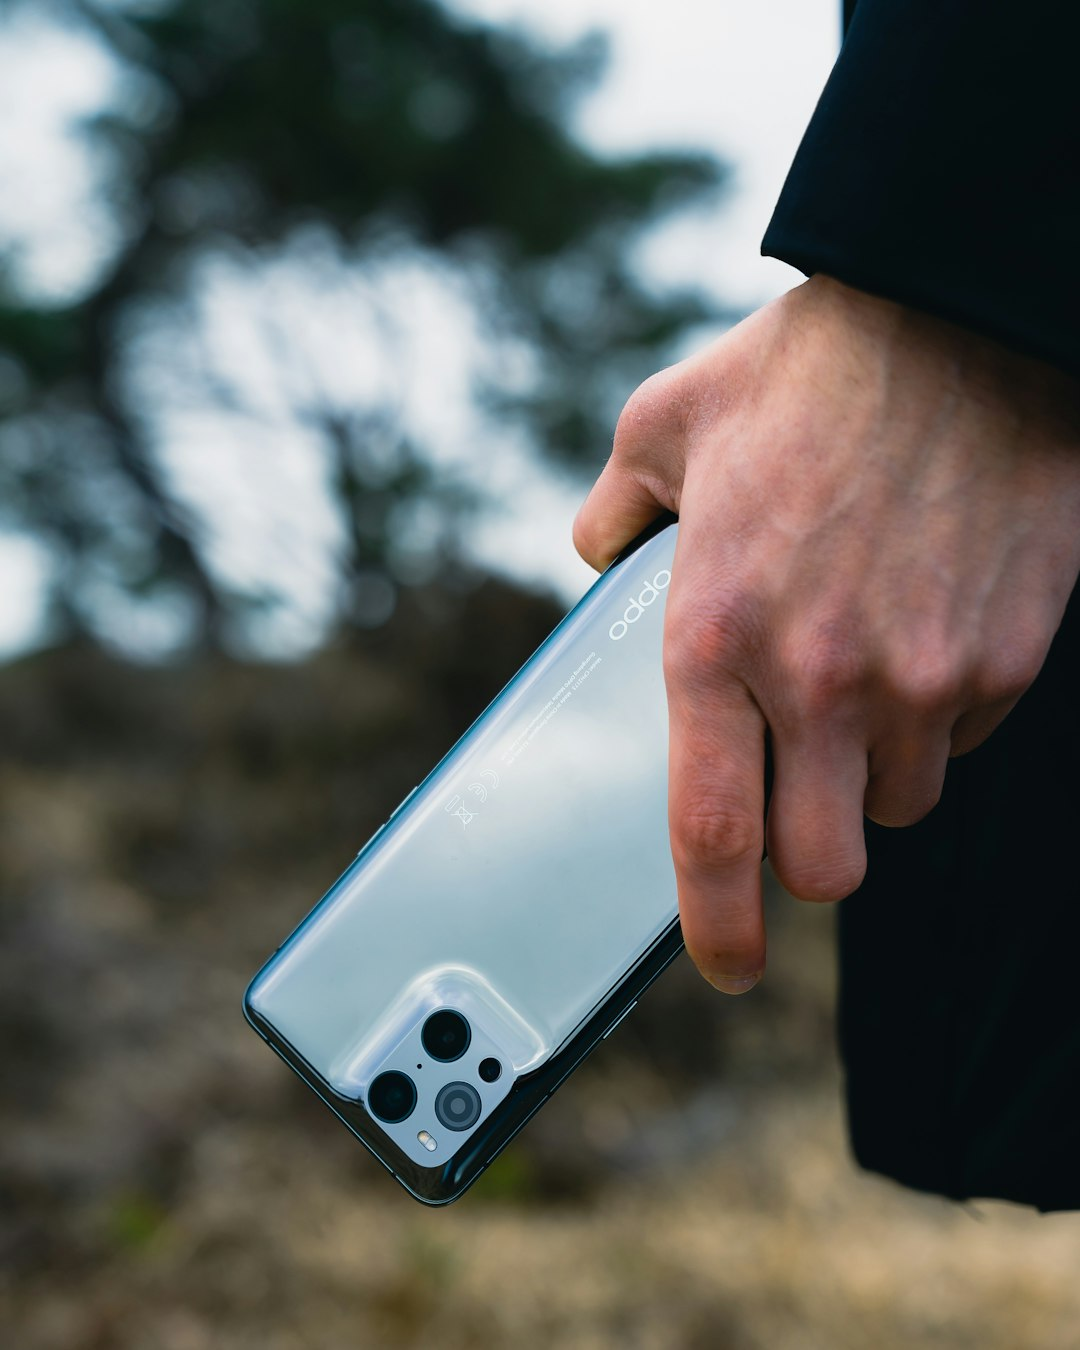phone: (244, 499, 875, 1205)
